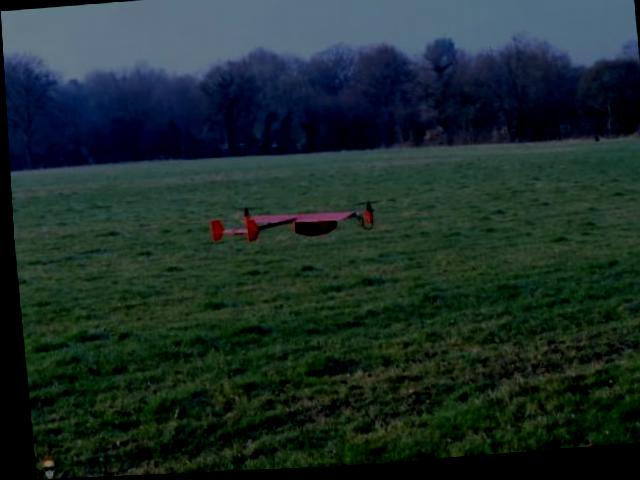uav: (207, 202, 357, 246)
